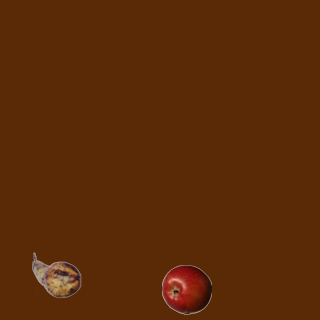Apple Braeburn: (161, 264, 211, 314)
Pear Abate: (31, 250, 81, 300)
